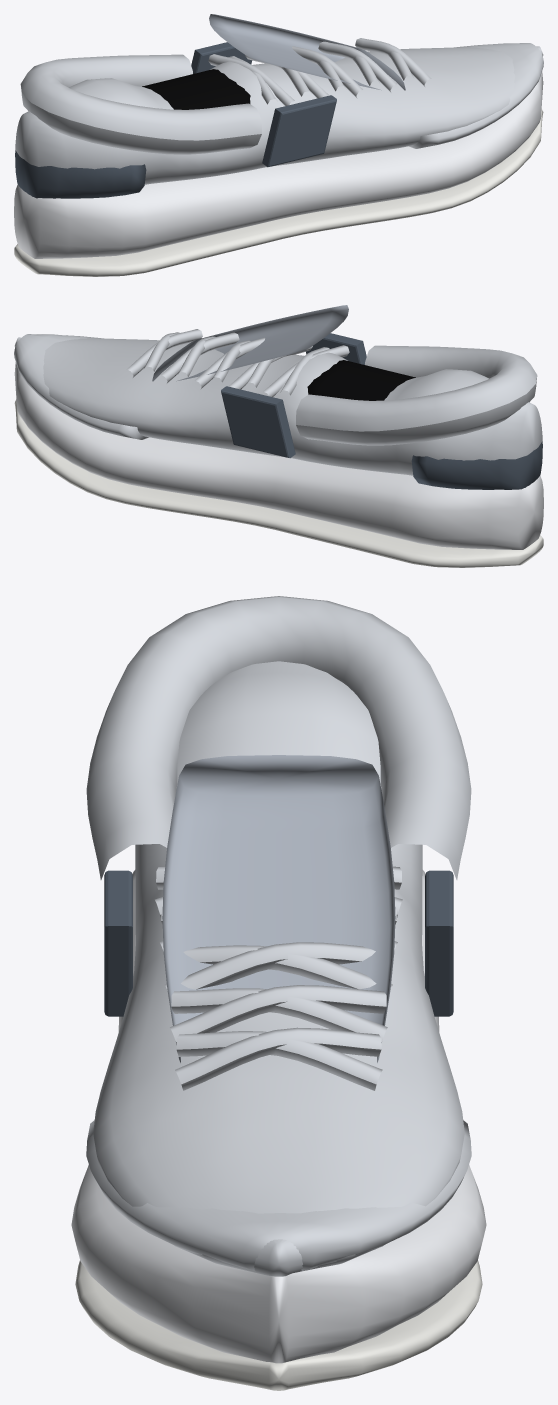
File: new-balance-530.glb
3 views of the same model, one above another, from view 1: azimuth 30°, elevation 25°; view 2: azimuth 150°, elevation 25°; view 3: azimuth 270°, elevation 25° (orthographic). The views are drawn at different scales.
Visible parts, largest first — view 1: new-balance-530-generico; view 2: new-balance-530-generico; view 3: new-balance-530-generico.
Boxes of the visible parts, x1,y1,x2,y2 form: new-balance-530-generico: (14,14,543,276); new-balance-530-generico: (14,305,543,567); new-balance-530-generico: (71,596,486,1390).
Bounding box in the file's own units: 0.29 × 0.1018 × 0.1003.
